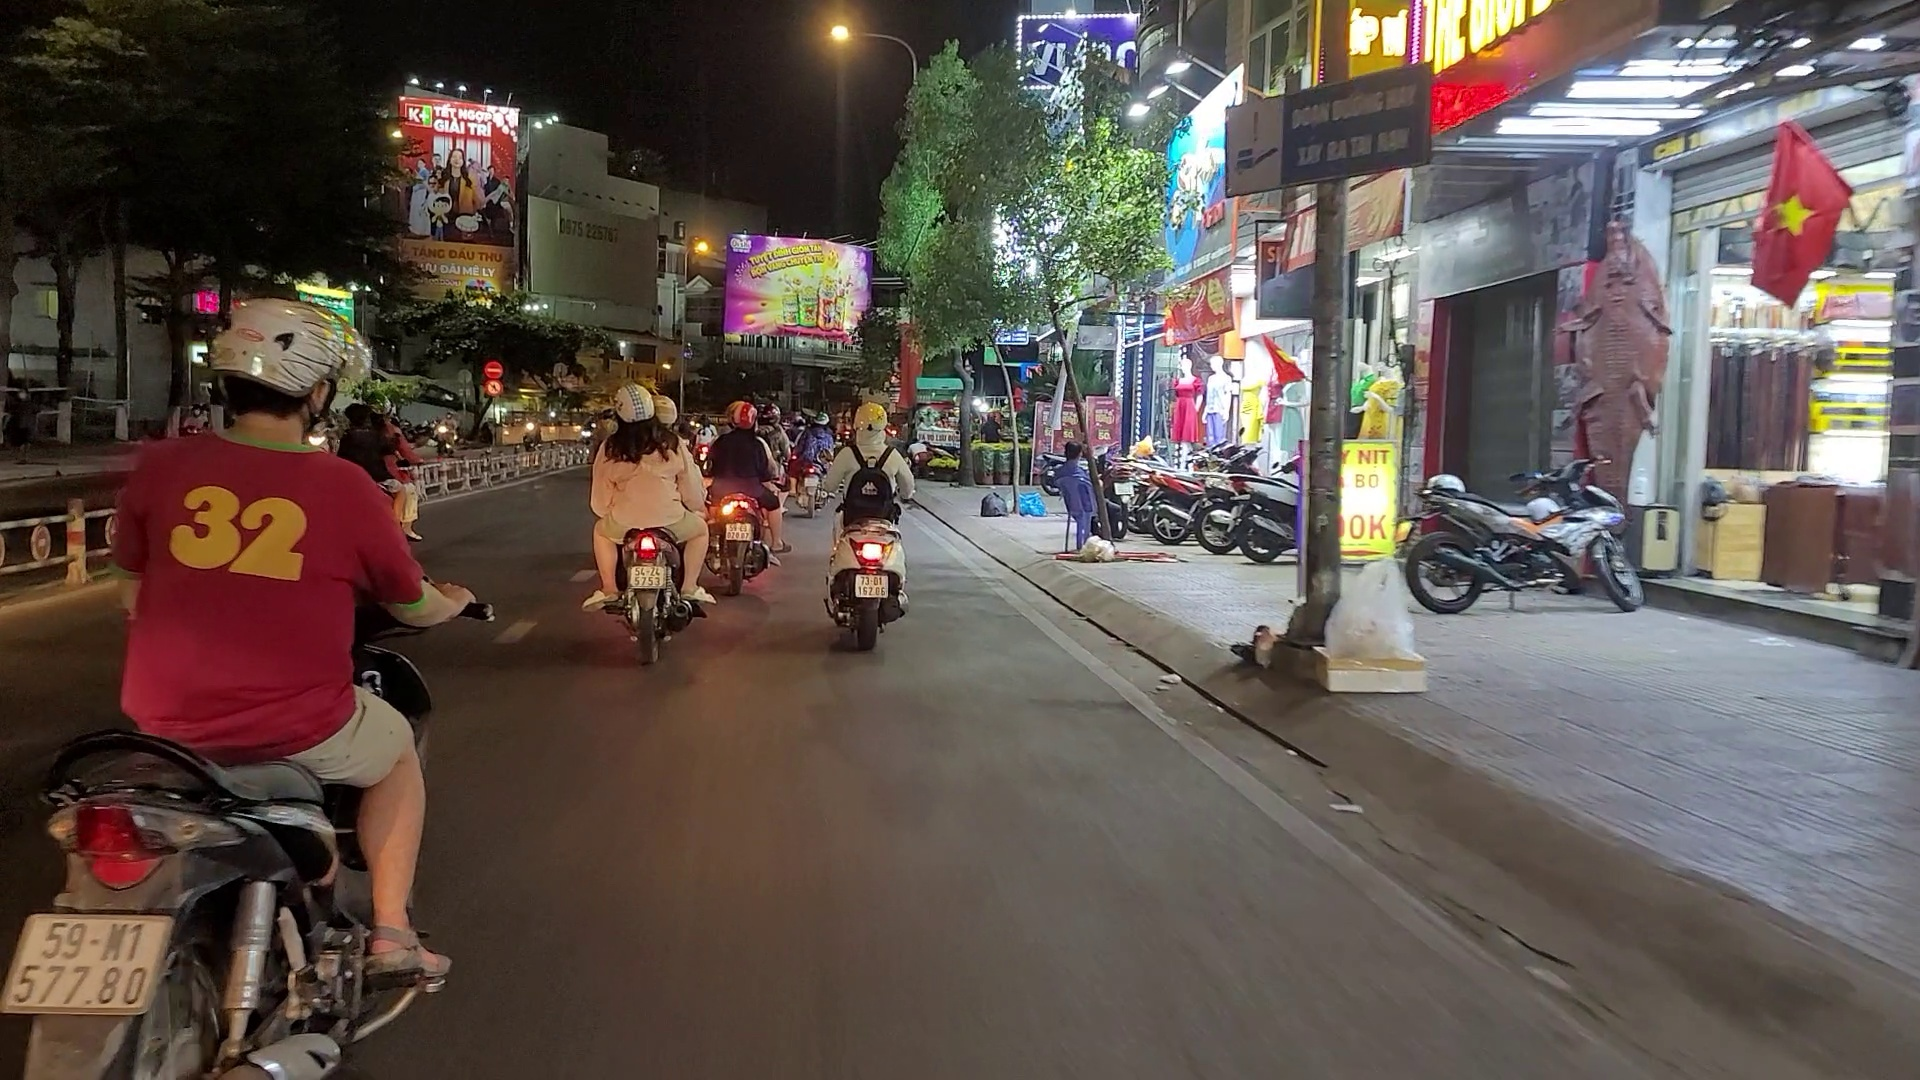Bien khac: (1224, 55, 1432, 202)
